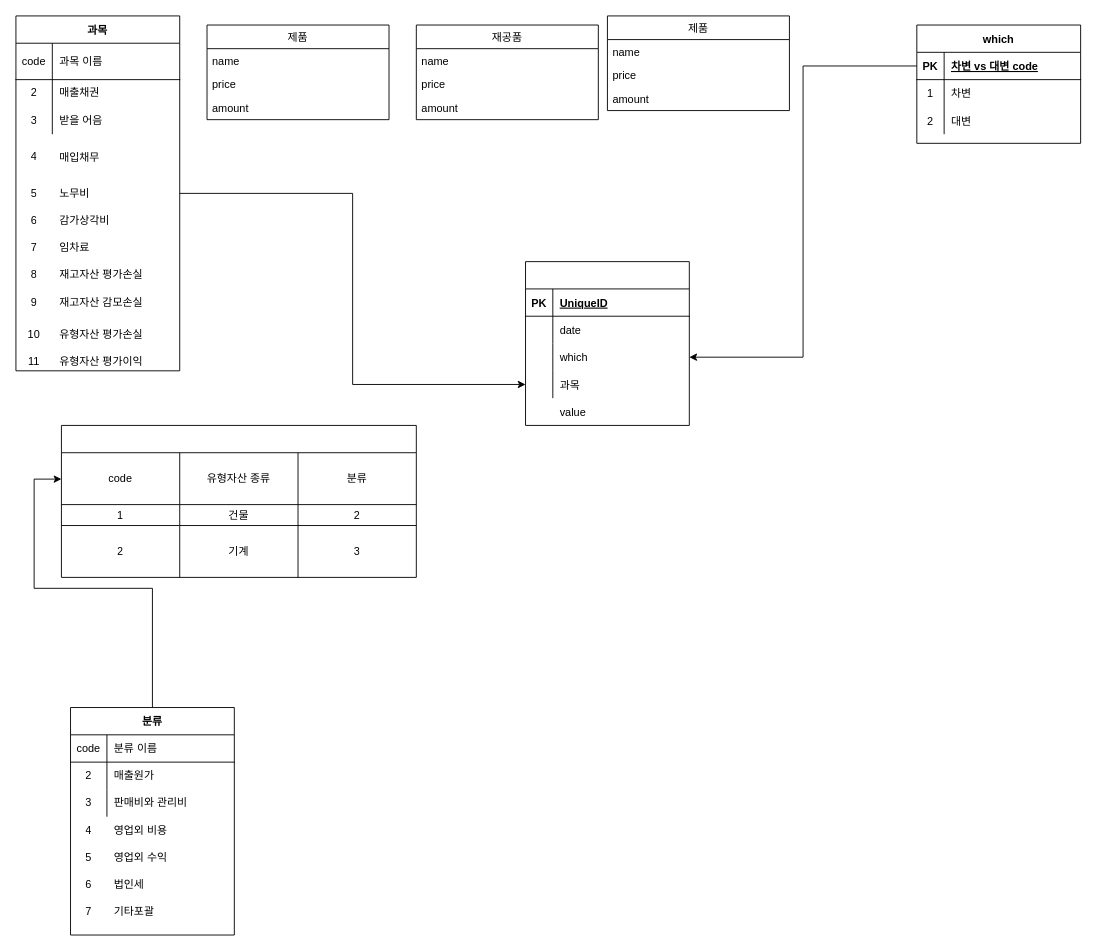
Some shapes in this 1097 by 951 pixel diagram are drawn without their labels. Here are the shapes that lost their labels. From the top down, the box of each, then its label:
(525, 261, 689, 425): 회계처리
(61, 425, 416, 577): 유형자산 분류
